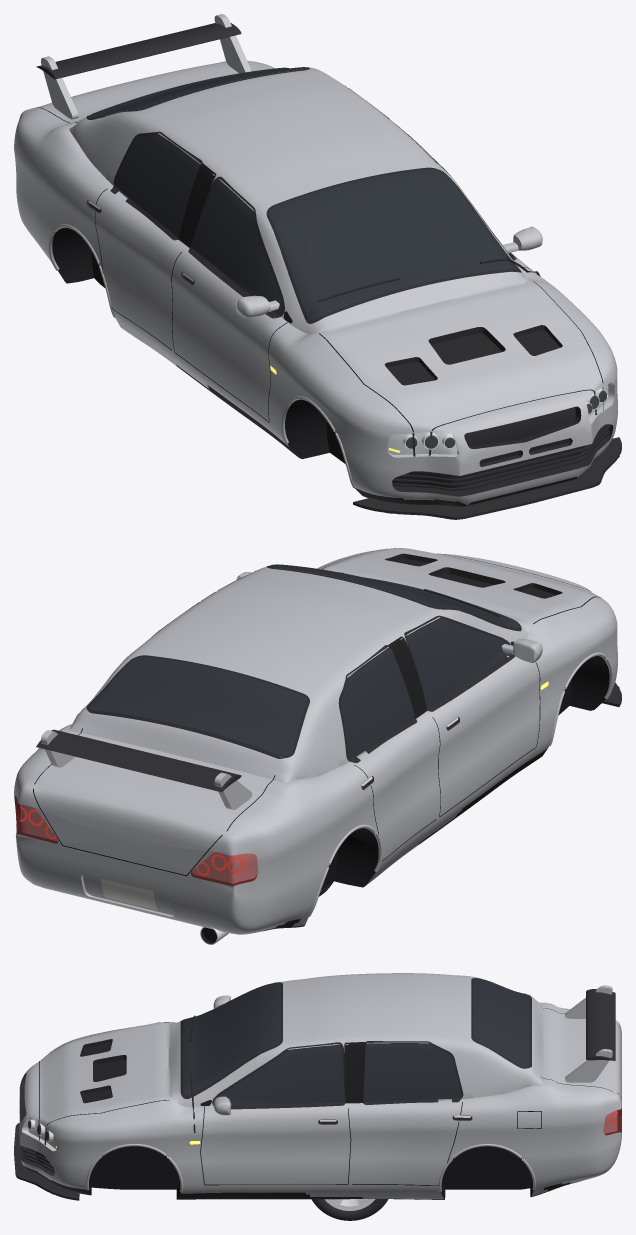
File: halberd.glb
3 renders of one model, top to bottom at view 1: azimuth 30°, elevation 25°; view 2: azimuth 150°, elevation 25°; view 3: azimuth 270°, elevation 25°, orthographic. The views are drawn at different scales.
Parts seen in each view (by area): view 1: Body, Spoiler; view 2: Body, Spoiler; view 3: Body, Spoiler, TyreF, RimF.
Part boxes in pixels (left/top/right/bottom): Body: left=14, top=60, right=621, bottom=519; Spoiler: left=36, top=14, right=251, bottom=119; Body: left=14, top=548, right=621, bottom=944; Spoiler: left=36, top=729, right=252, bottom=809; Body: left=14, top=973, right=621, bottom=1200; Spoiler: left=565, top=985, right=615, bottom=1082; TyreF: left=311, top=1199, right=388, bottom=1220; RimF: left=325, top=1199, right=375, bottom=1210.
Bounding box in the file's own units: 1.94 × 1.77 × 4.53.
